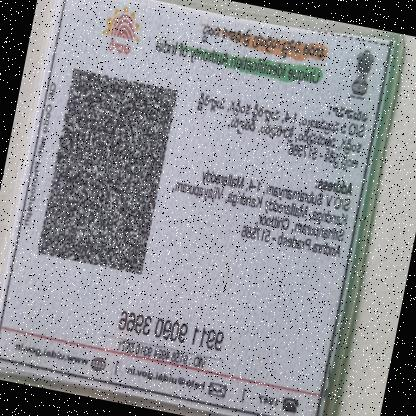aadhaar_card: (0, 0, 400, 415)
